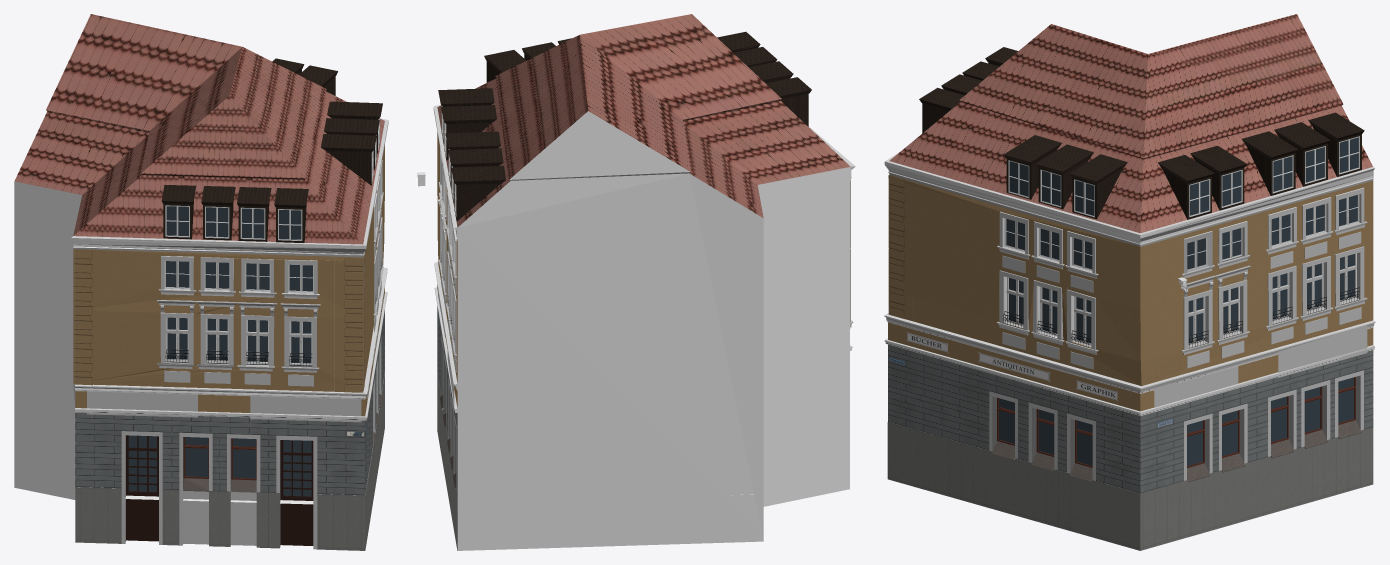
The model's file is free_lowpoly_3d_models_house.glb.
3 renders of one model, left to right at view 1: azimuth 30°, elevation 25°; view 2: azimuth 150°, elevation 25°; view 3: azimuth 270°, elevation 25°, orthographic. The views are drawn at different scales.
Parts seen in each view (by area): view 1: Object008_Material #7852_0, Object008_Material #4541_0, Object008_01 - Default_0, Object008_Material #7773_0, Object008_Material #85_0, Object008_Material #7695_0, Object008_Material #12033_0, Object008_Material #4007_0, Object008_Material #12216_0, Object008_Material #4416_0, Object008_Material #353_0, Object008_Material #576_0 (+32 smaller); view 2: Object008_01 - Default_0, Object008_Material #7852_0, Object008_Material #7542_0, Object008_Material #12216_0, Object008_Material #5267_0, Object008_Material #4007_0, Object008_Material #11851_0, Object008_Material #2784_0, Object008_Material #85_0, Object008_Material #594_0, Object008_Material #11213_0, Object008_Material #289_0; view 3: Object008_Material #7695_0, Object008_Material #85_0, Object008_Material #3103_0, Object008_Material #7542_0, Object008_Material #2784_0, Object008_Material #11942_0, Object008_Material #11851_0, Object008_Material #4007_0, Object008_Material #12216_0, Object008_Material #5267_0, Object008_Material #594_0, Object008_Material #134_0 (+27 smaller).
Boxes of the visible parts, bbox=[...] form: Object008_Material #7852_0: bbox=[14, 14, 242, 235]; Object008_Material #4541_0: bbox=[73, 249, 363, 391]; Object008_01 - Default_0: bbox=[14, 181, 81, 499]; Object008_Material #7773_0: bbox=[74, 95, 362, 244]; Object008_Material #85_0: bbox=[75, 310, 384, 495]; Object008_Material #7695_0: bbox=[229, 47, 384, 243]; Object008_Material #12033_0: bbox=[75, 487, 365, 550]; Object008_Material #4007_0: bbox=[71, 118, 388, 418]; Object008_Material #12216_0: bbox=[161, 58, 382, 207]; Object008_Material #4416_0: bbox=[74, 250, 364, 392]; Object008_Material #353_0: bbox=[126, 435, 313, 545]; Object008_Material #576_0: bbox=[78, 372, 384, 549]; Object008_01 - Default_0: bbox=[442, 111, 852, 550]; Object008_Material #7852_0: bbox=[580, 14, 850, 217]; Object008_Material #7542_0: bbox=[437, 35, 588, 227]; Object008_Material #12216_0: bbox=[438, 31, 811, 184]; Object008_Material #5267_0: bbox=[441, 49, 808, 221]; Object008_Material #4007_0: bbox=[433, 104, 855, 409]; Object008_Material #11851_0: bbox=[437, 372, 457, 550]; Object008_Material #2784_0: bbox=[437, 132, 457, 408]; Object008_Material #85_0: bbox=[437, 306, 457, 491]; Object008_Material #594_0: bbox=[440, 208, 456, 353]; Object008_Material #11213_0: bbox=[441, 340, 456, 473]; Object008_Material #289_0: bbox=[441, 336, 456, 485]; Object008_Material #7695_0: bbox=[889, 24, 1147, 232]; Object008_Material #85_0: bbox=[888, 344, 1373, 493]; Object008_Material #3103_0: bbox=[889, 175, 1141, 385]; Object008_Material #7542_0: bbox=[1140, 14, 1372, 233]; Object008_Material #2784_0: bbox=[888, 185, 1373, 411]; Object008_Material #11942_0: bbox=[887, 422, 1140, 550]; Object008_Material #11851_0: bbox=[1140, 427, 1373, 550]; Object008_Material #4007_0: bbox=[884, 151, 1375, 414]; Object008_Material #12216_0: bbox=[919, 47, 1364, 183]; Object008_Material #5267_0: bbox=[922, 62, 1361, 219]; Object008_Material #594_0: bbox=[999, 246, 1364, 349]; Object008_Material #134_0: bbox=[999, 377, 1353, 466].
Bounding box in the file's own units: 17.76 × 19.47 × 20.31.
Materials: 94 (66 with a texture image).
